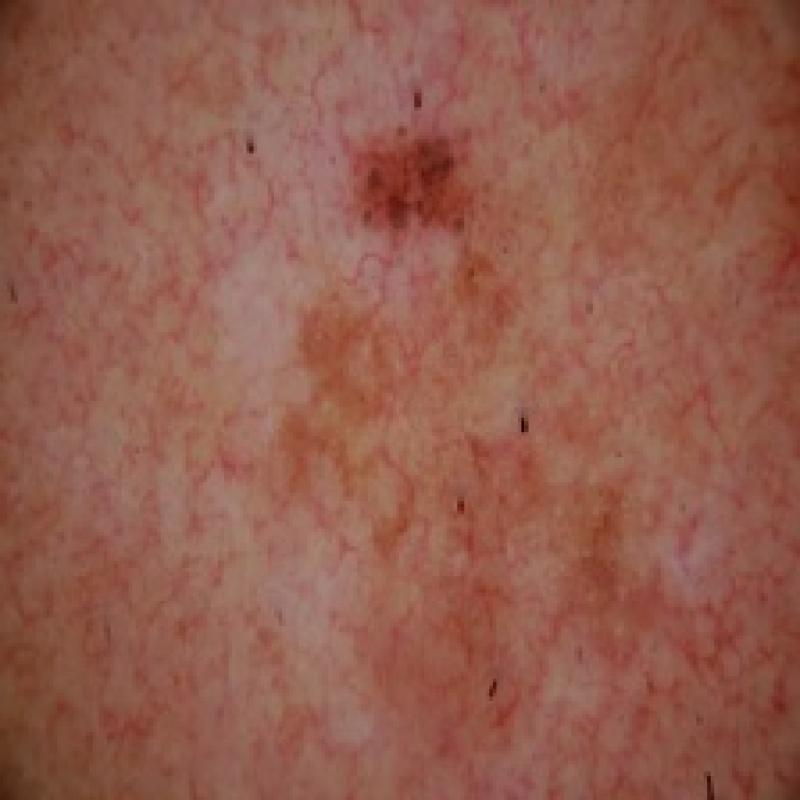malignant: (210, 0, 797, 771), (303, 78, 527, 266)
